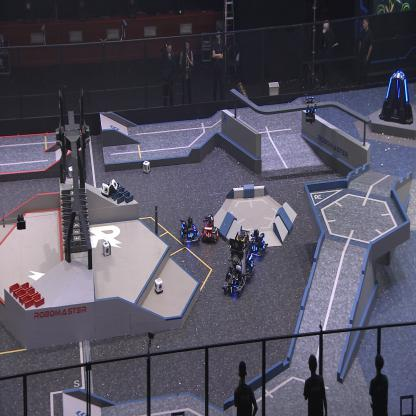car: (222, 237, 247, 295), (235, 226, 256, 276), (179, 215, 199, 248), (249, 229, 268, 261), (200, 214, 220, 244)
